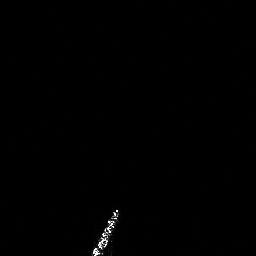ship: (88, 205, 125, 256)
